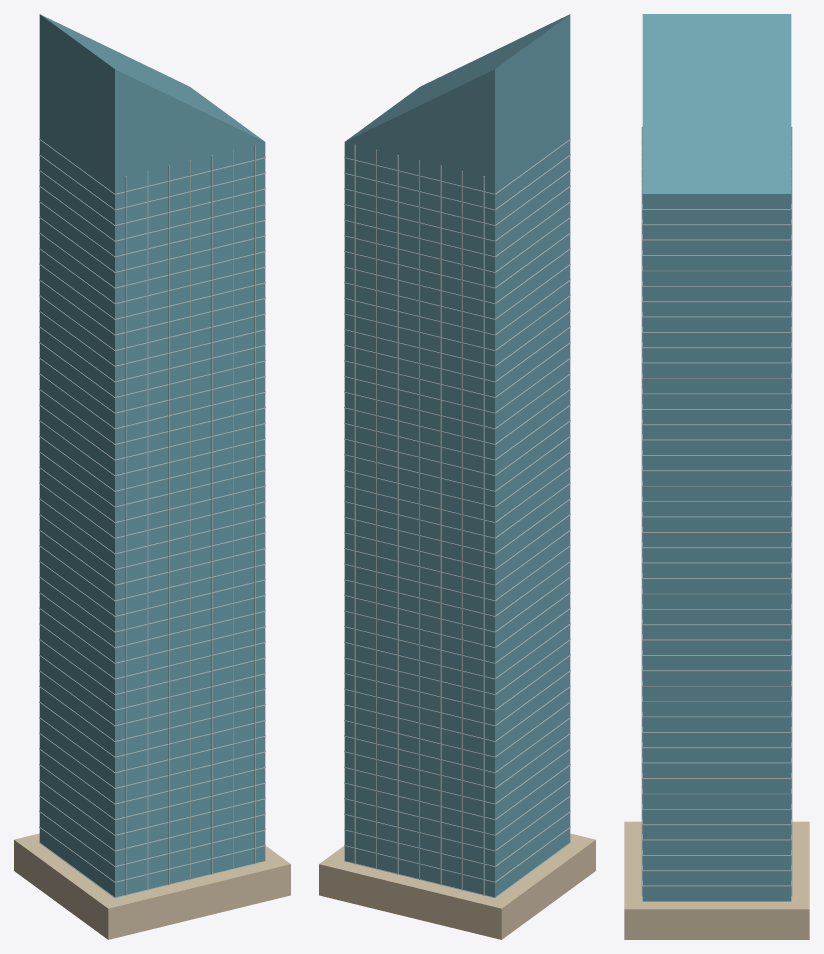
Rendered from bfc-s1.glb.
3 renders of one model, left to right at view 1: azimuth 30°, elevation 25°; view 2: azimuth 150°, elevation 25°; view 3: azimuth 270°, elevation 25°, orthographic.
Visible parts, largest first — view 1: bfc-s1; view 2: bfc-s1; view 3: bfc-s1.
Part boxes in pixels (left/top/right/bottom): bfc-s1: left=14, top=14, right=290, bottom=939; bfc-s1: left=319, top=14, right=595, bottom=939; bfc-s1: left=624, top=14, right=809, bottom=939.
Size of the model in its own units: 40.01 by 180 by 35.79.
